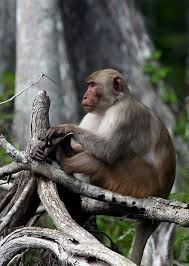monkey: (17, 34, 184, 243)
